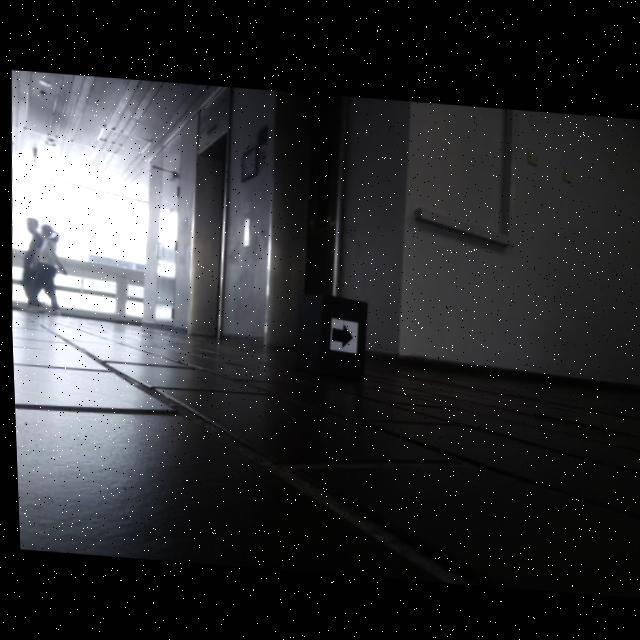RIGHT: (329, 319, 351, 346)
